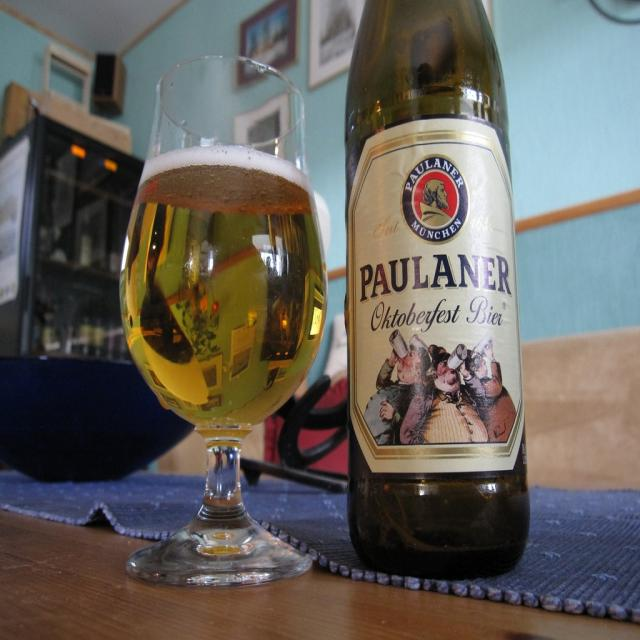paulaner: (402, 155, 469, 246)
